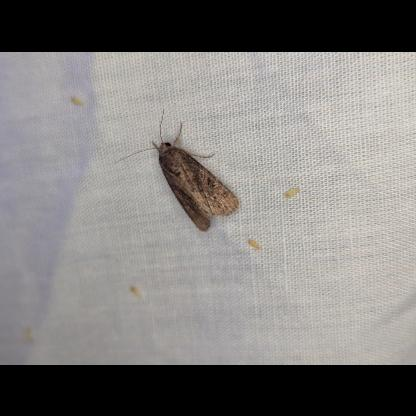Fall Armyworm Moth: (113, 106, 240, 232)
